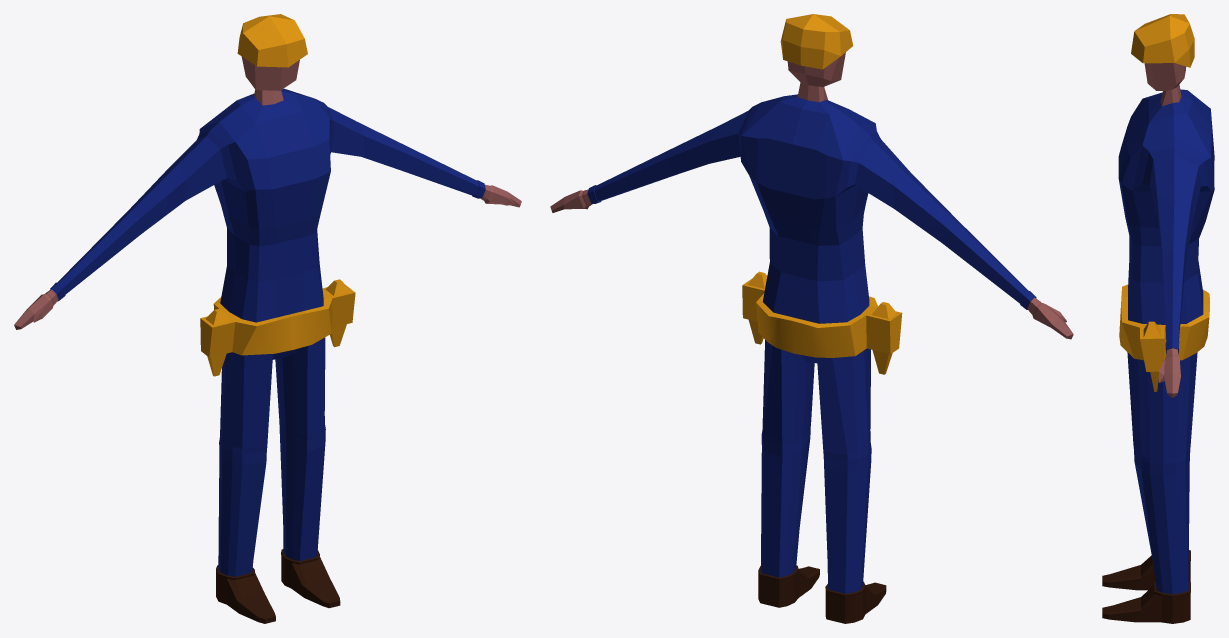
Rendered from Game_Char_Carpenter.FBX.
The picture shows the model from 3 angles, left to right: view 1: azimuth 30°, elevation 25°; view 2: azimuth 150°, elevation 25°; view 3: azimuth 270°, elevation 25°; orthographic projection. The views are drawn at different scales.
Visible parts, largest first — view 1: Box009; view 2: Box009; view 3: Box009.
Boxes of the visible parts, left/top/right/bottom form: Box009: left=14, top=14, right=521, bottom=623; Box009: left=550, top=14, right=1073, bottom=623; Box009: left=1102, top=14, right=1214, bottom=623.
Bounding box in the file's own units: 22.11 × 23.88 × 4.17.
